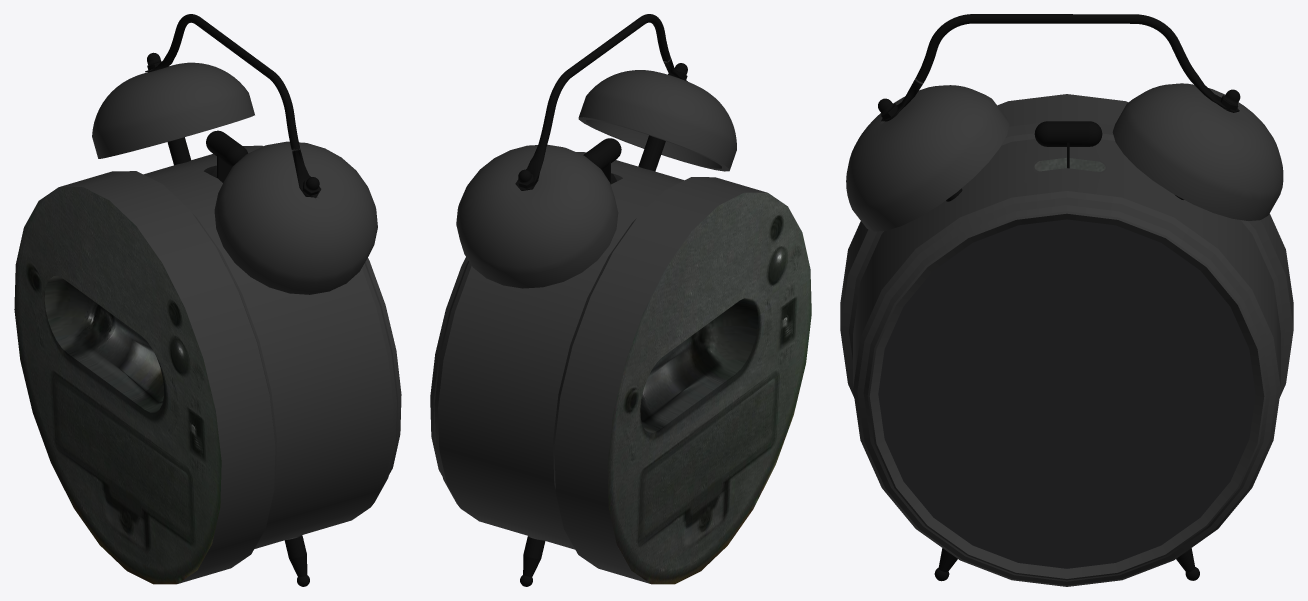
3 renders of one model, left to right at view 1: azimuth 30°, elevation 25°; view 2: azimuth 150°, elevation 25°; view 3: azimuth 270°, elevation 25°, orthographic. The views are drawn at different scales.
Parts seen in each view (by area): view 1: mesh30-geometry-0, mesh29-geometry-0, mesh17-geometry-0, mesh3-geometry-0, mesh27-geometry-1, mesh33-geometry-0, mesh2-geometry-0; view 2: mesh30-geometry-0, mesh29-geometry-0, mesh3-geometry-0, mesh17-geometry-0, mesh27-geometry-1, mesh33-geometry-0, mesh1-geometry-0, mesh26-geometry-0; view 3: mesh30-geometry-1, mesh30-geometry-0, mesh3-geometry-0, mesh17-geometry-0, mesh27-geometry-1, mesh33-geometry-0, mesh29-geometry-0.
Boxes of the visible parts, <box> form: mesh30-geometry-0: <box>59,145,401,584</box>; mesh29-geometry-0: <box>14,187,221,584</box>; mesh17-geometry-0: <box>214,141,377,294</box>; mesh3-geometry-0: <box>92,62,254,158</box>; mesh27-geometry-1: <box>145,14,321,197</box>; mesh33-geometry-0: <box>206,130,247,182</box>; mesh2-geometry-0: <box>284,535,309,586</box>; mesh30-geometry-0: <box>430,152,767,583</box>; mesh29-geometry-0: <box>607,192,811,584</box>; mesh3-geometry-0: <box>456,144,618,288</box>; mesh17-geometry-0: <box>578,70,736,171</box>; mesh27-geometry-1: <box>515,14,687,190</box>; mesh33-geometry-0: <box>583,138,621,184</box>; mesh1-geometry-0: <box>520,536,545,586</box>; mesh26-geometry-0: <box>638,135,665,171</box>; mesh30-geometry-1: <box>878,219,1255,568</box>; mesh30-geometry-0: <box>840,94,1293,586</box>; mesh3-geometry-0: <box>1112,83,1283,220</box>; mesh17-geometry-0: <box>846,85,1009,231</box>; mesh27-geometry-1: <box>881,14,1239,121</box>; mesh33-geometry-0: <box>1034,121,1102,168</box>; mesh29-geometry-0: <box>1034,157,1105,171</box>.
Size of the model in its own units: 0.3279 by 0.7601 by 0.561.
6 materials, 2 textured.
